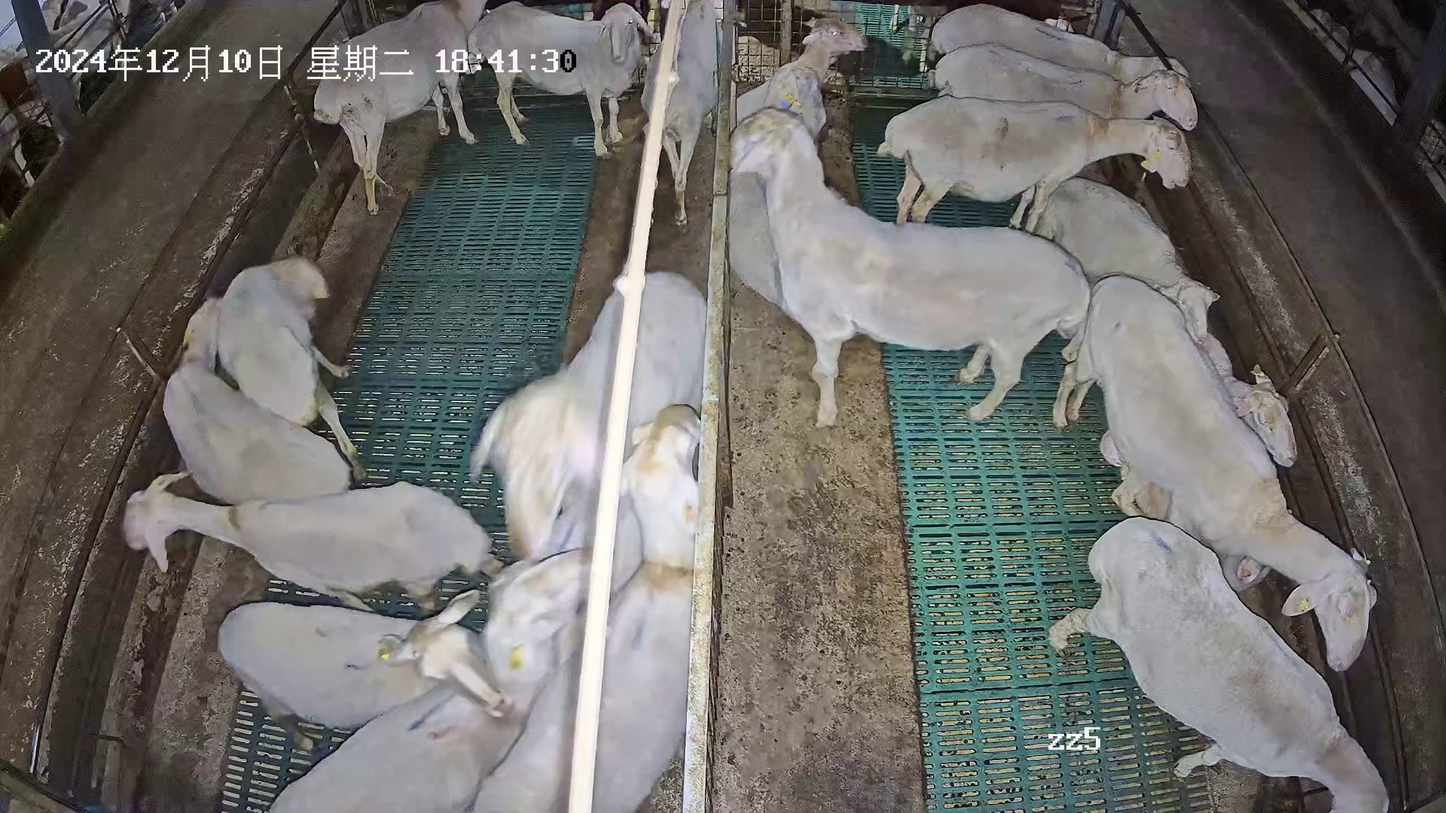Smounting: (464, 269, 707, 713)
mounted: (479, 493, 647, 709)
